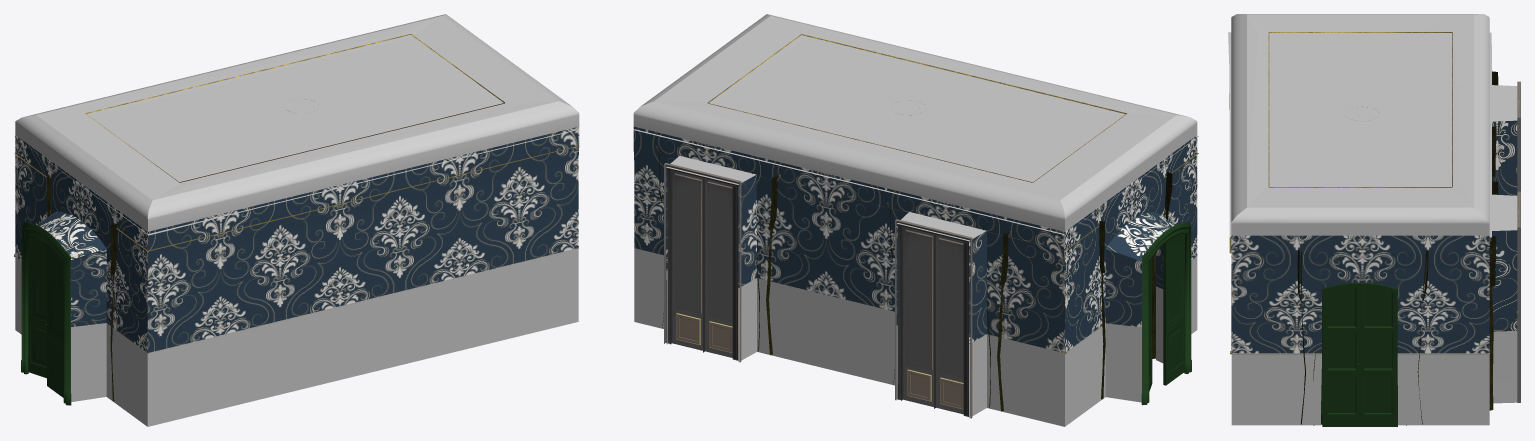
Rendered from Salo Verd(1).fbx.
3 renders of one model, left to right at view 1: azimuth 30°, elevation 25°; view 2: azimuth 150°, elevation 25°; view 3: azimuth 270°, elevation 25°, orthographic. The views are drawn at different scales.
Parts seen in each view (by area): view 1: Salo Verd, Salo Verd._Sostre, Porta_fusta_Marc_001.001, Porta_fusta_PE_001.001, Porta_fusta_PD_001.001, Motllura_sostre, Motllura Superior_001.004, Cortina_1.001, Motllura Superior_001; view 2: Salo Verd, Salo Verd._Sostre, PortaVidriera_001.001, PortaVidriera_001, Porta_fusta_PD_001.001, Porta_fusta_Marc_001.001, Cortina_1.001, Motllura_sostre, Cortina_1, Cortina_1.003, Motllura Superior_001.004, Porta_fusta_PE_001.001; view 3: Salo Verd._Sostre, Salo Verd, Porta_fusta_PE_001.002, Porta_fusta_PD_001.002, Motllura Superior_001.004, Cortina_1.003, PortaVidriera_001.001, Motllura_sostre, Cortina_1.004, PortaVidriera_001, Cortina_1.
Boxes of the visible parts, x1=… form: Salo Verd: x1=15, y1=126, x2=579, y2=426; Salo Verd._Sostre: x1=15, y1=14, x2=579, y2=231; Porta_fusta_Marc_001.001: x1=21, y1=222, x2=71, y2=405; Porta_fusta_PE_001.001: x1=28, y1=234, x2=46, y2=378; Porta_fusta_PD_001.001: x1=47, y1=243, x2=64, y2=397; Motllura_sostre: x1=85, y1=34, x2=504, y2=182; Motllura Superior_001.004: x1=14, y1=129, x2=578, y2=235; Cortina_1.001: x1=46, y1=174, x2=117, y2=401; Motllura Superior_001: x1=14, y1=146, x2=578, y2=251; Salo Verd: x1=633, y1=126, x2=1197, y2=426; Salo Verd._Sostre: x1=633, y1=14, x2=1197, y2=231; PortaVidriera_001.001: x1=664, y1=163, x2=741, y2=362; PortaVidriera_001: x1=895, y1=219, x2=972, y2=418; Porta_fusta_PD_001.001: x1=1163, y1=234, x2=1185, y2=385; Porta_fusta_Marc_001.001: x1=1141, y1=222, x2=1191, y2=405; Cortina_1.001: x1=1098, y1=171, x2=1172, y2=399; Motllura_sostre: x1=707, y1=34, x2=1126, y2=182; Cortina_1: x1=887, y1=202, x2=1011, y2=411; Cortina_1.003: x1=656, y1=145, x2=780, y2=354; Motllura Superior_001.004: x1=634, y1=129, x2=1198, y2=234; Porta_fusta_PE_001.001: x1=1148, y1=257, x2=1152, y2=391; Salo Verd._Sostre: x1=1231, y1=14, x2=1489, y2=235; Salo Verd: x1=1231, y1=85, x2=1517, y2=425; Porta_fusta_PE_001.002: x1=1360, y1=282, x2=1397, y2=426; Porta_fusta_PD_001.002: x1=1322, y1=282, x2=1359, y2=426; Motllura Superior_001.004: x1=1228, y1=32, x2=1491, y2=237; Cortina_1.003: x1=1489, y1=181, x2=1498, y2=410; PortaVidriera_001.001: x1=1517, y1=191, x2=1520, y2=402; Motllura_sostre: x1=1268, y1=32, x2=1452, y2=187; Cortina_1.004: x1=1297, y1=249, x2=1428, y2=424; PortaVidriera_001: x1=1517, y1=81, x2=1520, y2=191; Cortina_1: x1=1492, y1=71, x2=1498, y2=180.
Bounding box in the file's own units: 1173 × 497 × 616.
